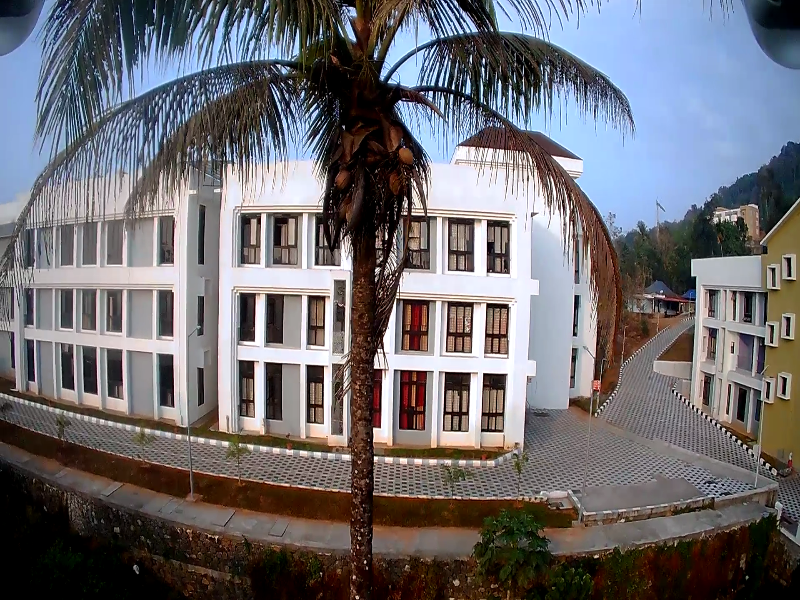coconut: (382, 172, 404, 195), (396, 144, 415, 168), (331, 168, 345, 187)
